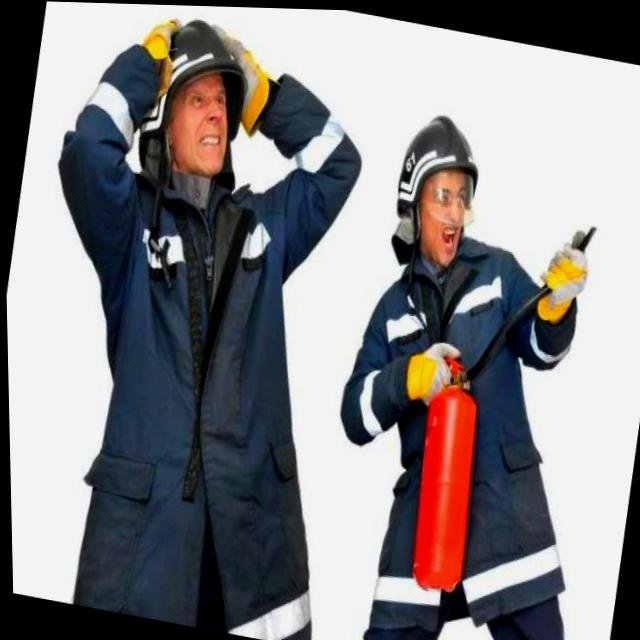FireExtinguisher: (390, 188, 608, 611)
